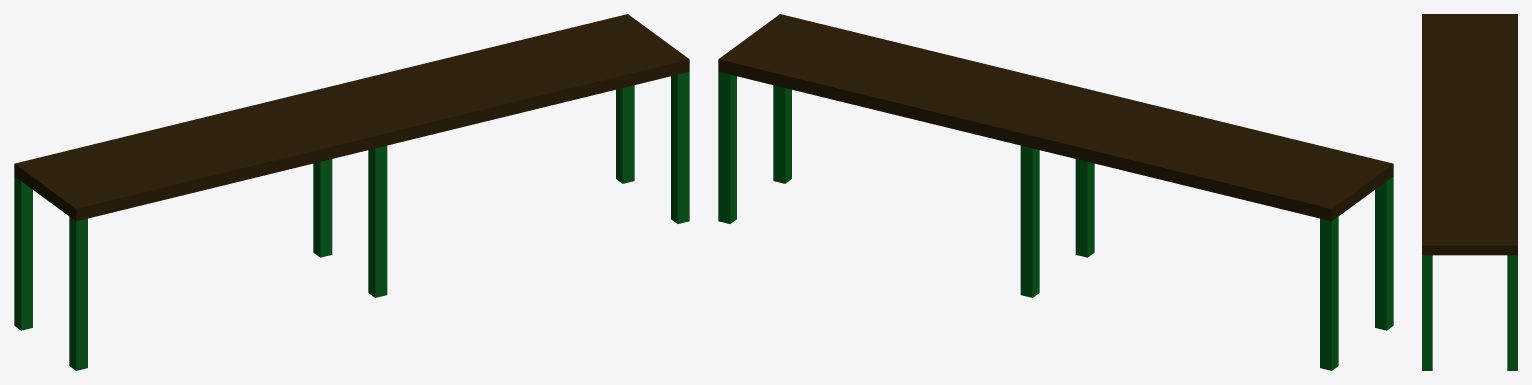
The model's file is Log.fbx.
The picture shows the model from 3 angles, left to right: view 1: azimuth 30°, elevation 25°; view 2: azimuth 150°, elevation 25°; view 3: azimuth 270°, elevation 25°; orthographic projection. The views are drawn at different scales.
Parts seen in each view (by area): view 1: mergedBlocks; view 2: mergedBlocks; view 3: mergedBlocks.
Part boxes in pixels (x1=…): mergedBlocks: x1=14, y1=14, x2=689, y2=370; mergedBlocks: x1=718, y1=14, x2=1393, y2=370; mergedBlocks: x1=1422, y1=14, x2=1517, y2=370.
Size of the model in its own units: 258 by 65 by 45.
